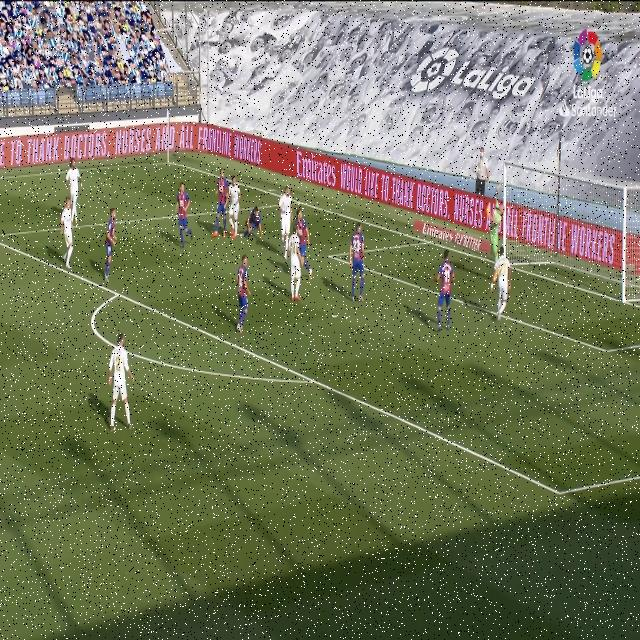GoalKeeper: (488, 171, 503, 257)
TEAM 1: (105, 330, 137, 438), (488, 247, 511, 327), (285, 223, 304, 304), (67, 158, 87, 223), (225, 177, 243, 239), (277, 184, 293, 252), (60, 200, 76, 266)
TEAM 2: (432, 248, 456, 331), (174, 179, 196, 250), (102, 200, 119, 290), (294, 200, 314, 276), (348, 220, 367, 300), (236, 250, 252, 338)
